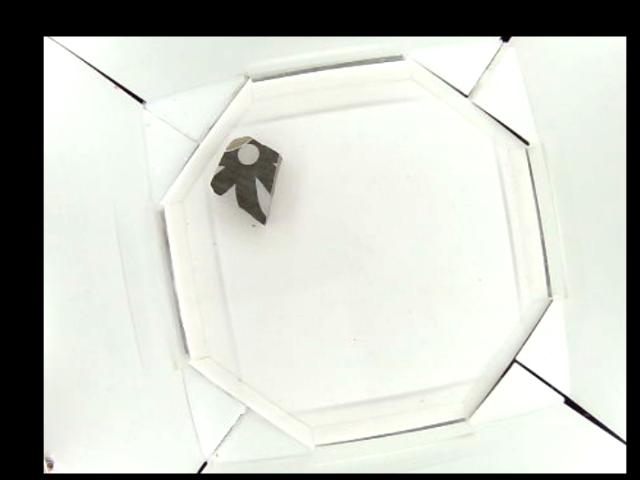China: (212, 137, 280, 224)
